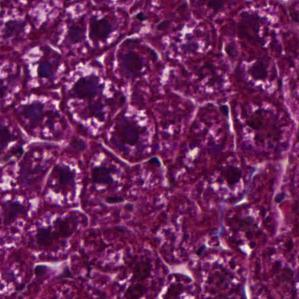inflammation: (91, 106, 166, 169), (64, 70, 121, 128), (109, 31, 162, 80)
